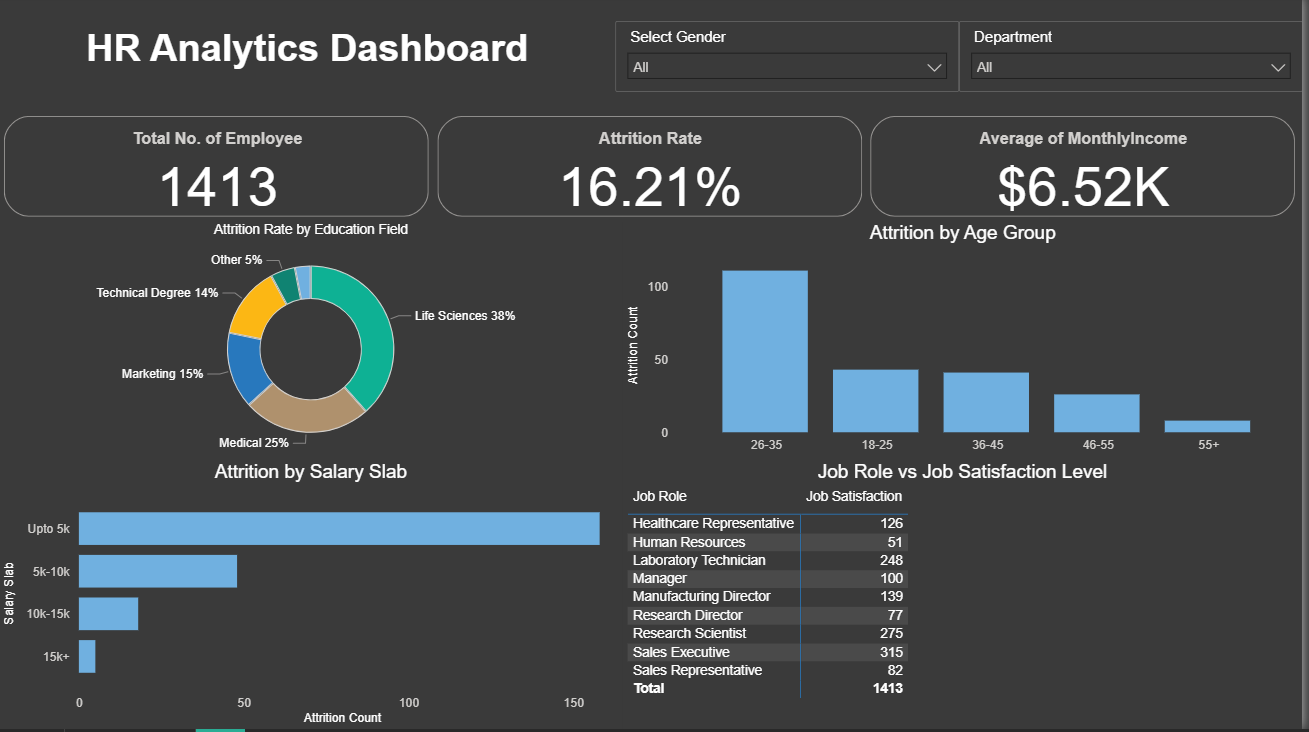

The dashboard page shown, as its layout file describes it:
{"tool":"powerbi","page":{"name":"Dashboard","canvas":[1280,720],"ordinal":0},"visuals":[{"type":"cardVisual","fields":{"Data":["CountNonNull(HR_Analytics.EmployeeCount)","_Measures.Attrition Rate","Avg(HR_Analytics.MonthlyIncome)"]},"box":[0,112.9,1279.8,109.2],"z":0},{"type":"donutChart","title":"Attrition Rate by Education Field","fields":{"Category":["HR_Analytics.EducationField"],"Y":["Sum(HR_Analytics.Attrition Count)"]},"box":[0,222.1,612.3,234.4],"z":1},{"type":"clusteredColumnChart","title":"Attrition by Age Group","fields":{"Category":["HR_Analytics.AgeGroup"],"Y":["Sum(HR_Analytics.Attrition Count)"]},"box":[612.3,222.1,667.5,234.4],"z":2},{"type":"barChart","title":"Attrition by Salary Slab","fields":{"Category":["HR_Analytics.SalarySlab"],"Y":["Sum(HR_Analytics.Attrition Count)"]},"box":[0,456.4,612.3,263.8],"z":3},{"type":"pivotTable","title":"Job Role vs Job Satisfaction Level","fields":{"Rows":["HR_Analytics.JobRole"],"Values":["CountNonNull(HR_Analytics.JobSatisfaction)"]},"box":[612,456,667,264],"z":4},{"type":"slicer","fields":{"Values":["HR_Analytics.Gender"]},"box":[604.9,24.5,337.4,69.9],"z":5},{"type":"slicer","fields":{"Values":["HR_Analytics.Department"]},"box":[942.3,24.5,337.4,69.9],"z":6},{"type":"textbox","box":[0,24.5,604.9,69.9],"z":7}]}

Visuals, with their boxes in screenshot pixels (x1, y1, x2, y2), scaled from the page's 1280x720 canvas onto the 1309x732 screenshot:
cardVisual - CountNonNull(HR_Analytics.EmployeeCount) x _Measures.Attrition Rate: [x1=0, y1=115, x2=1308, y2=226]
"Attrition Rate by Education Field" donutChart: [x1=0, y1=226, x2=626, y2=464]
"Attrition by Age Group" clusteredColumnChart: [x1=626, y1=226, x2=1308, y2=464]
"Attrition by Salary Slab" barChart: [x1=0, y1=464, x2=626, y2=731]
"Job Role vs Job Satisfaction Level" pivotTable: [x1=626, y1=464, x2=1308, y2=731]
slicer - HR_Analytics.Gender: [x1=619, y1=25, x2=964, y2=96]
slicer - HR_Analytics.Department: [x1=964, y1=25, x2=1308, y2=96]
textbox: [x1=0, y1=25, x2=619, y2=96]
